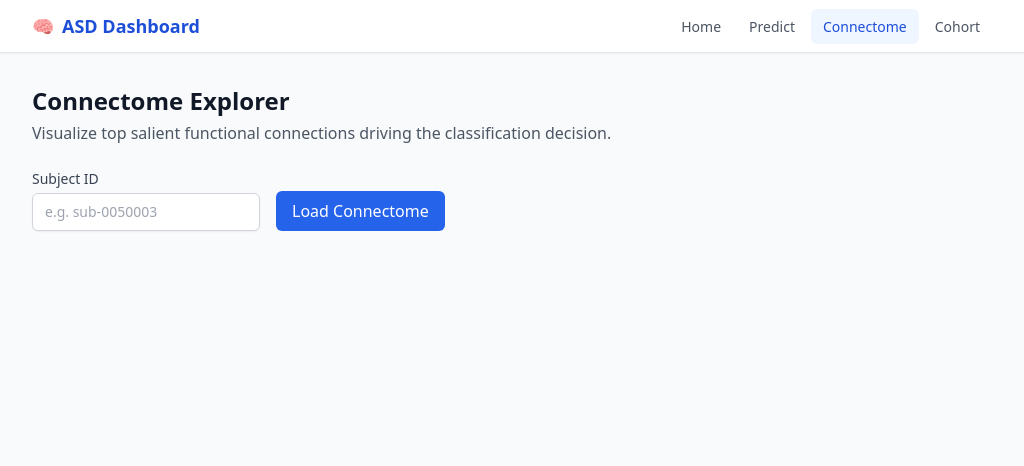
AppRoutes › navigates to /cohort and renders the Cohort page heading
Step 1. Click the link "Cohort" → click(957, 26), box top-left (935, 17), bottom-right (980, 36)
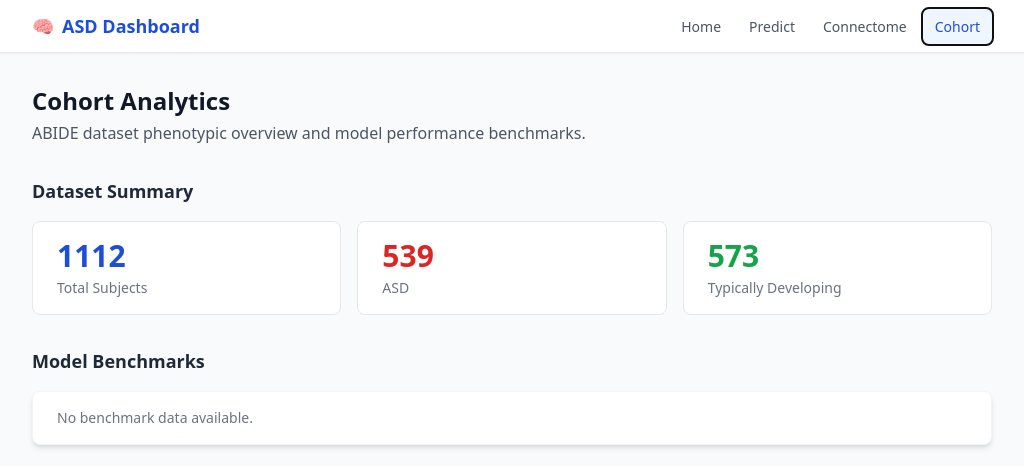
Result: the heading "Cohort Analytics" is shown at top-left (32, 84), bottom-right (230, 117)
